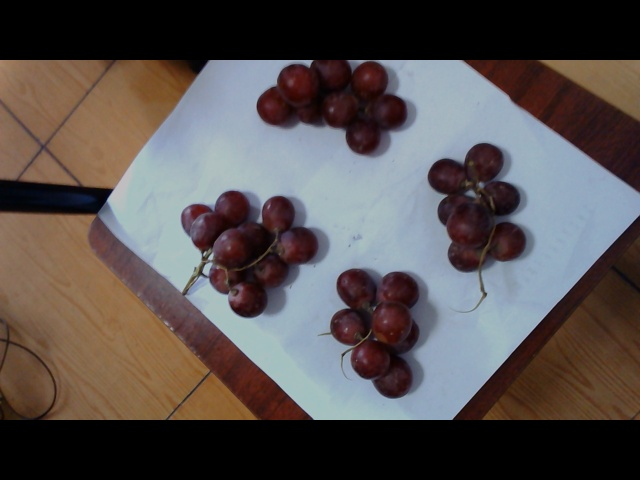grape: (177, 181, 310, 317), (431, 144, 534, 282), (254, 62, 416, 147), (327, 262, 429, 390)
